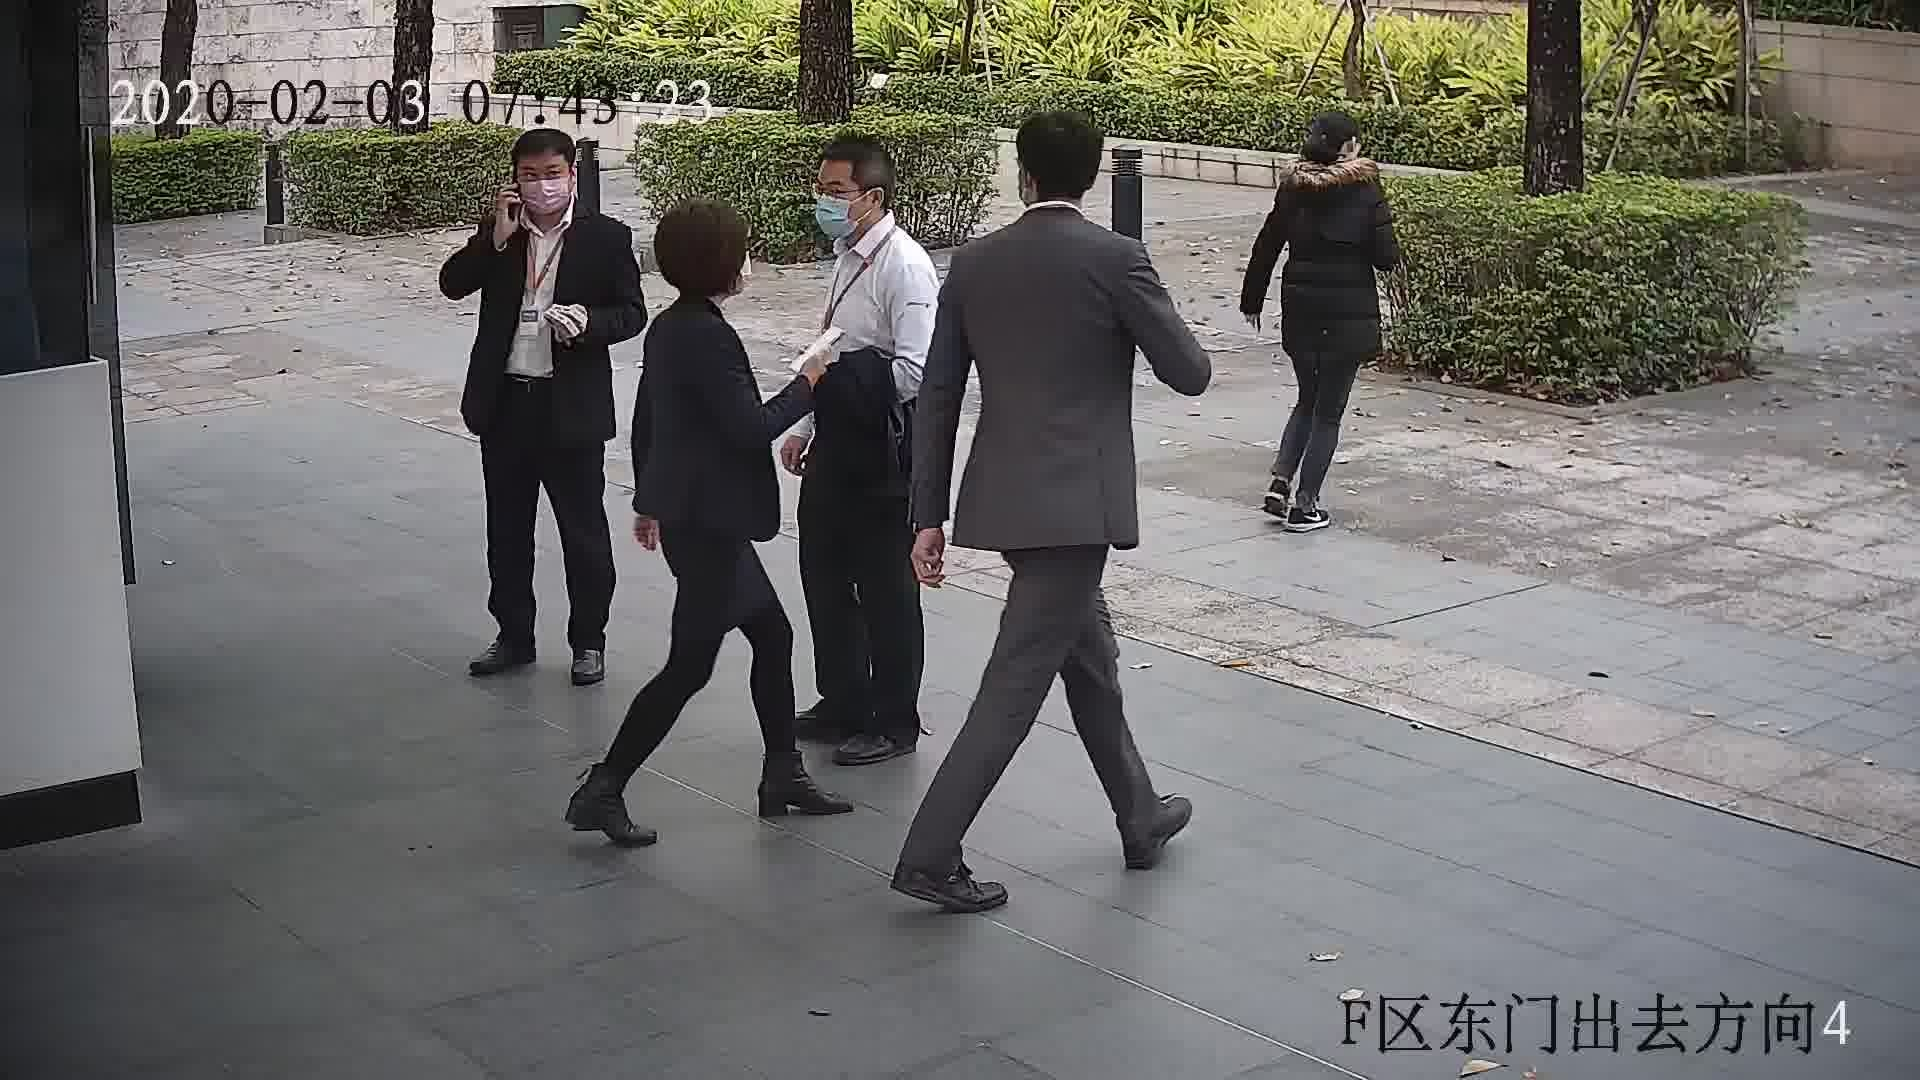face: (505, 147, 583, 224), (811, 158, 866, 239)
mask: (814, 190, 861, 240), (516, 176, 570, 215)
person: (950, 106, 1153, 288), (469, 128, 634, 263), (641, 199, 763, 366), (821, 136, 940, 294), (1271, 106, 1392, 213)
